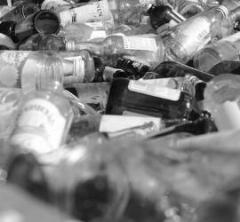glass: (0, 52, 76, 158)
